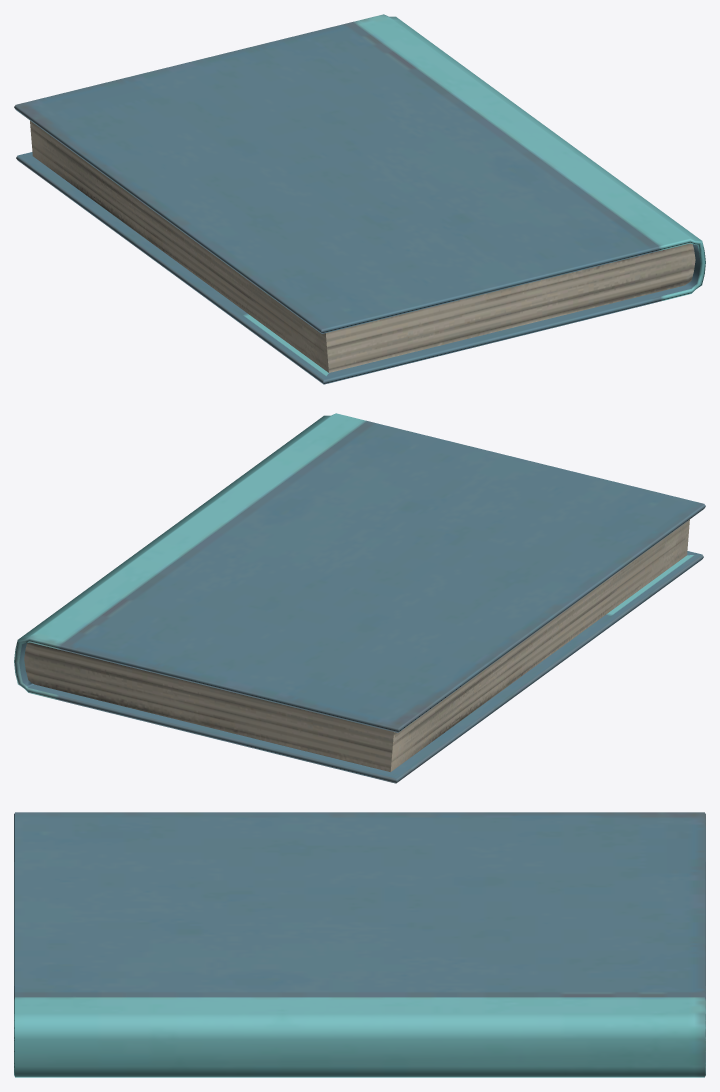
File: book_unnamed01.dae
3 renders of one model, top to bottom at view 1: azimuth 30°, elevation 25°; view 2: azimuth 150°, elevation 25°; view 3: azimuth 270°, elevation 25°, orthographic. The views are drawn at different scales.
Visible parts, largest first — view 1: book1; view 2: book1; view 3: book1.
Boxes of the visible parts, left/top/right/bottom form: book1: left=14, top=14, right=705, bottom=384; book1: left=14, top=413, right=705, bottom=783; book1: left=14, top=812, right=705, bottom=1077.
Bounding box in the file's own units: 19.23 × 2.72 × 26.55.
